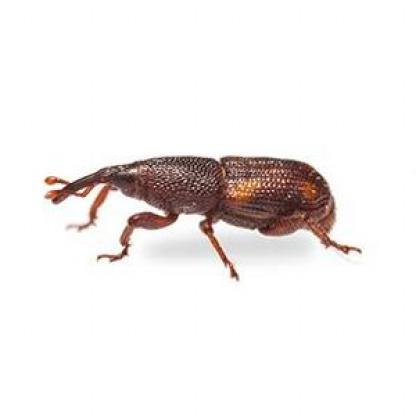rice-bug: (46, 146, 356, 266)
